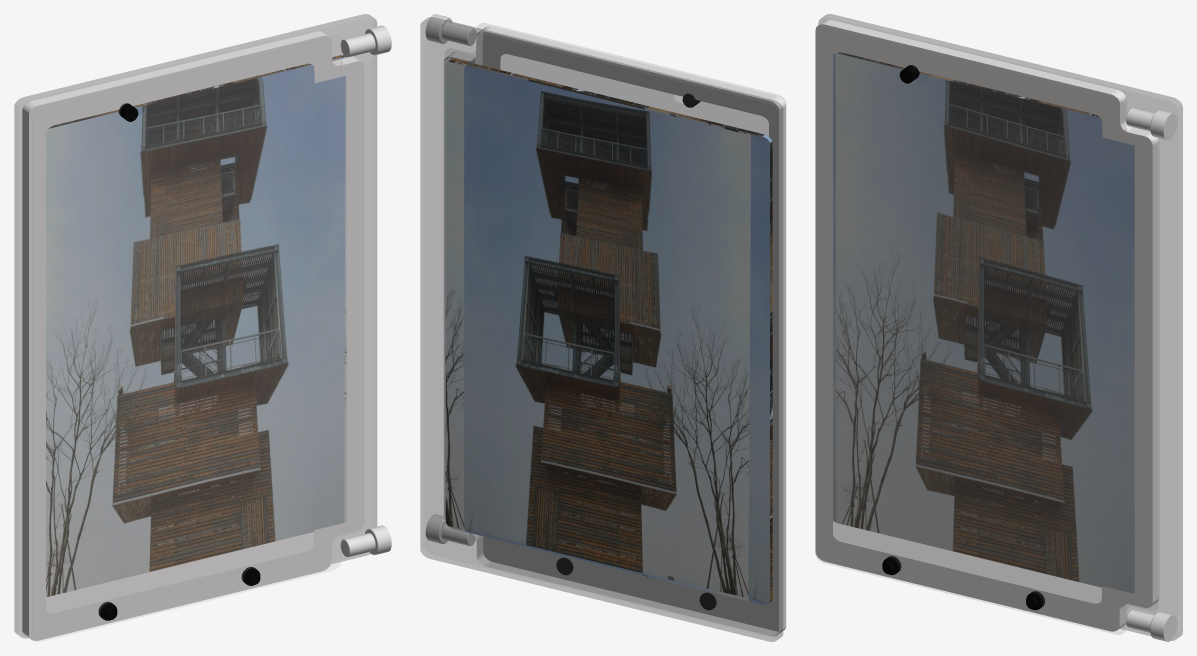
Rendered from a3vertr8.glb.
3 views of the same model, side by side, from view 1: azimuth 30°, elevation 25°; view 2: azimuth 150°, elevation 25°; view 3: azimuth 330°, elevation 25° (orthographic).
Visible parts, largest first — view 1: a4vertone; view 2: a4vertone; view 3: a4vertone.
Boxes of the visible parts, x1=… form: a4vertone: x1=14, y1=14, x2=391, y2=641; a4vertone: x1=420, y1=14, x2=786, y2=641; a4vertone: x1=815, y1=14, x2=1182, y2=641.
Size of the model in its own units: 0.1733 by 0.2485 by 0.016.
Materials: 6 (1 with a texture image).
